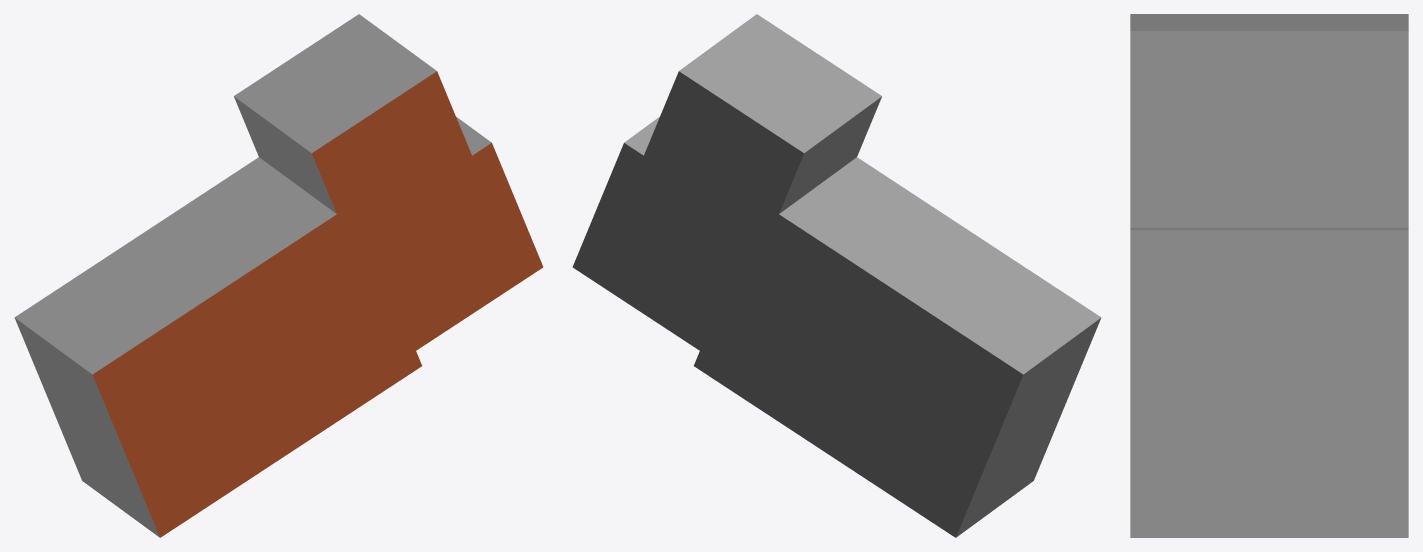
Rendered from construction_0719_assumed_A_Capela_h6m.obj.
3 views of the same model, side by side, from view 1: azimuth 30°, elevation 25°; view 2: azimuth 150°, elevation 25°; view 3: azimuth 270°, elevation 25° (orthographic). The views are drawn at different scales.
Visible parts, largest first — view 1: construction_0719_assumed_A_Capela; view 2: construction_0719_assumed_A_Capela; view 3: construction_0719_assumed_A_Capela.
Part boxes in pixels (<box>): construction_0719_assumed_A_Capela: <box>14,14,543,537</box>; construction_0719_assumed_A_Capela: <box>572,14,1101,537</box>; construction_0719_assumed_A_Capela: <box>1130,14,1408,537</box>.
Bounding box in the file's own units: 20.01 × 16.93 × 6.
